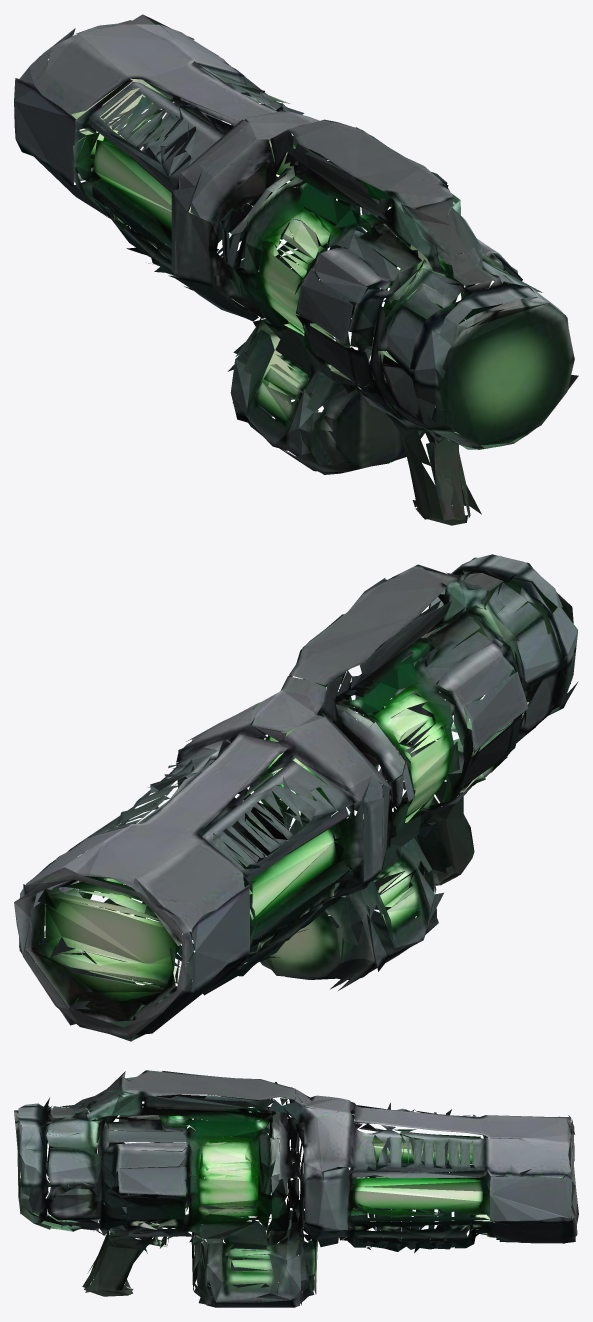
Rendered from meteor_burster.glb.
3 views of the same model, one above another, from view 1: azimuth 30°, elevation 25°; view 2: azimuth 150°, elevation 25°; view 3: azimuth 270°, elevation 25° (orthographic). The views are drawn at different scales.
Visible parts, largest first — view 1: geometry_0; view 2: geometry_0; view 3: geometry_0.
Boxes of the visible parts, x1,y1,x2,y2 form: geometry_0: (14, 14, 578, 525); geometry_0: (14, 554, 578, 1041); geometry_0: (14, 1070, 578, 1307).
Bounding box in the file's own units: 0.5534 × 0.8523 × 2.
Materials: 1 (1 with a texture image).
